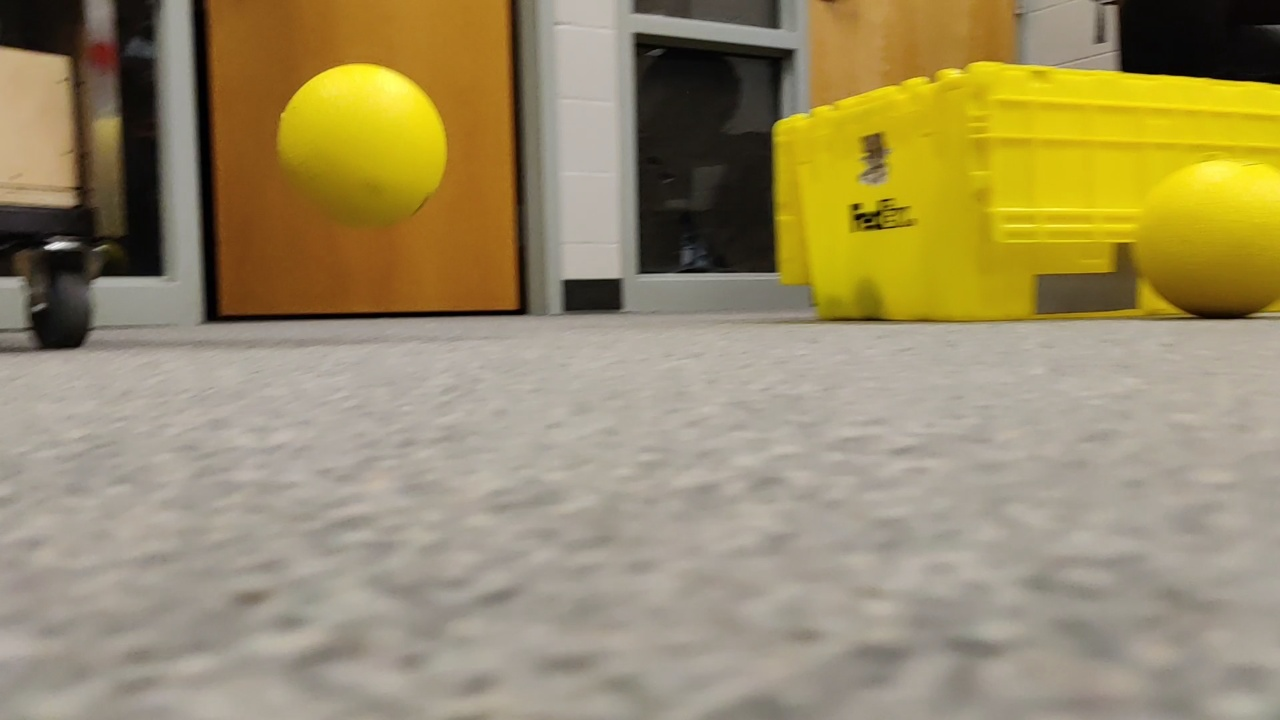Ball: (273, 54, 462, 231)
